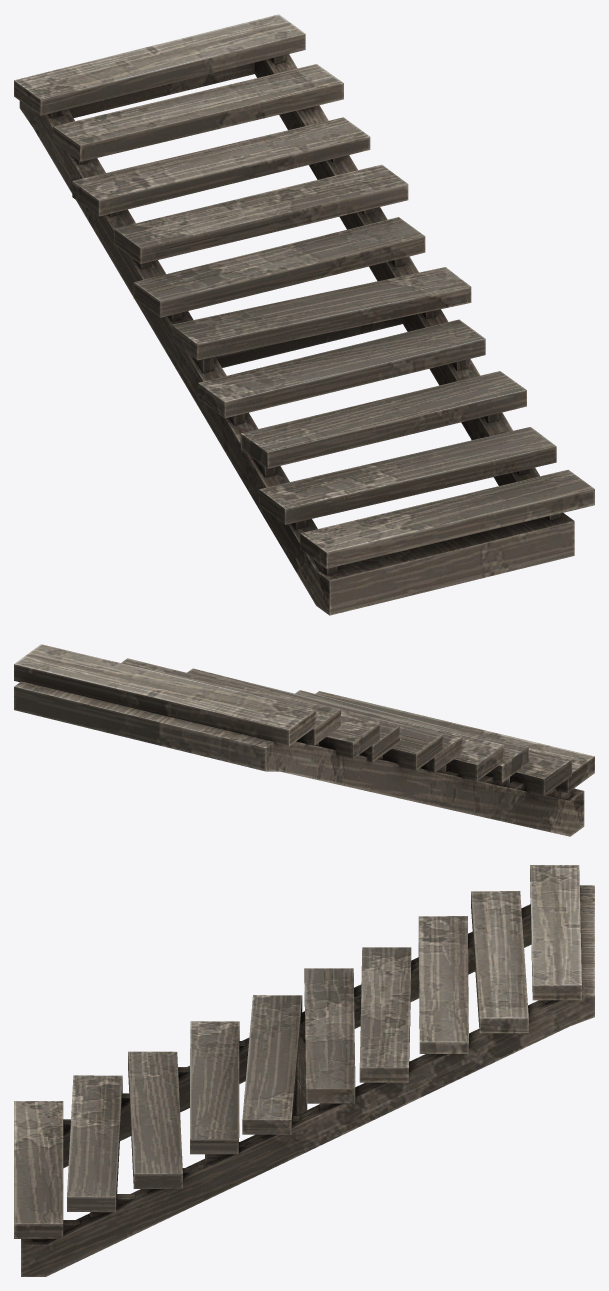
Rendered from Wood_Stairs1x2.glb.
3 views of the same model, one above another, from view 1: azimuth 30°, elevation 25°; view 2: azimuth 150°, elevation 25°; view 3: azimuth 270°, elevation 25° (orthographic). The views are drawn at different scales.
Parts seen in each view (by area): view 1: Wood_Stairs1x2; view 2: Wood_Stairs1x2; view 3: Wood_Stairs1x2.
Boxes of the visible parts, <box> form: Wood_Stairs1x2: <box>14,14,594,615</box>; Wood_Stairs1x2: <box>14,644,594,836</box>; Wood_Stairs1x2: <box>14,865,594,1276</box>.
Bounding box in the file's own units: 1.04 × 1.13 × 2.02.
Materials: 1 (1 with a texture image).
